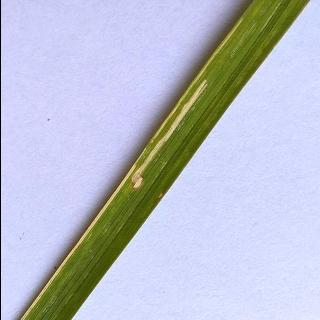Blast: (118, 48, 222, 197)
